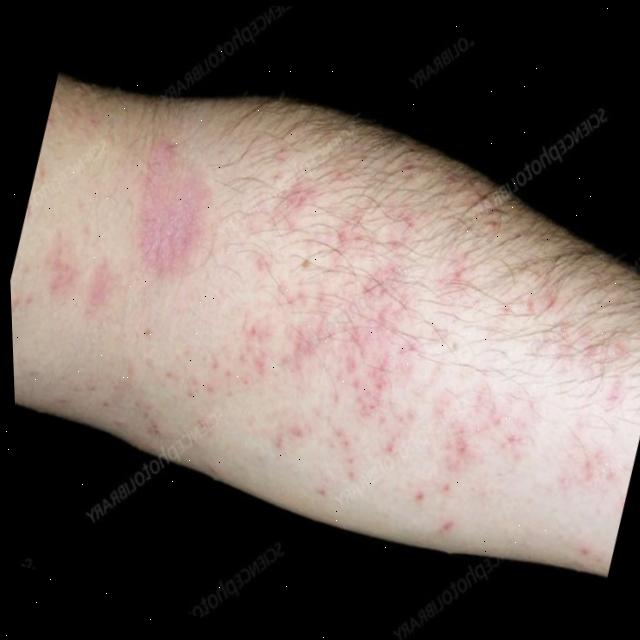Eczema: (17, 90, 532, 502)
